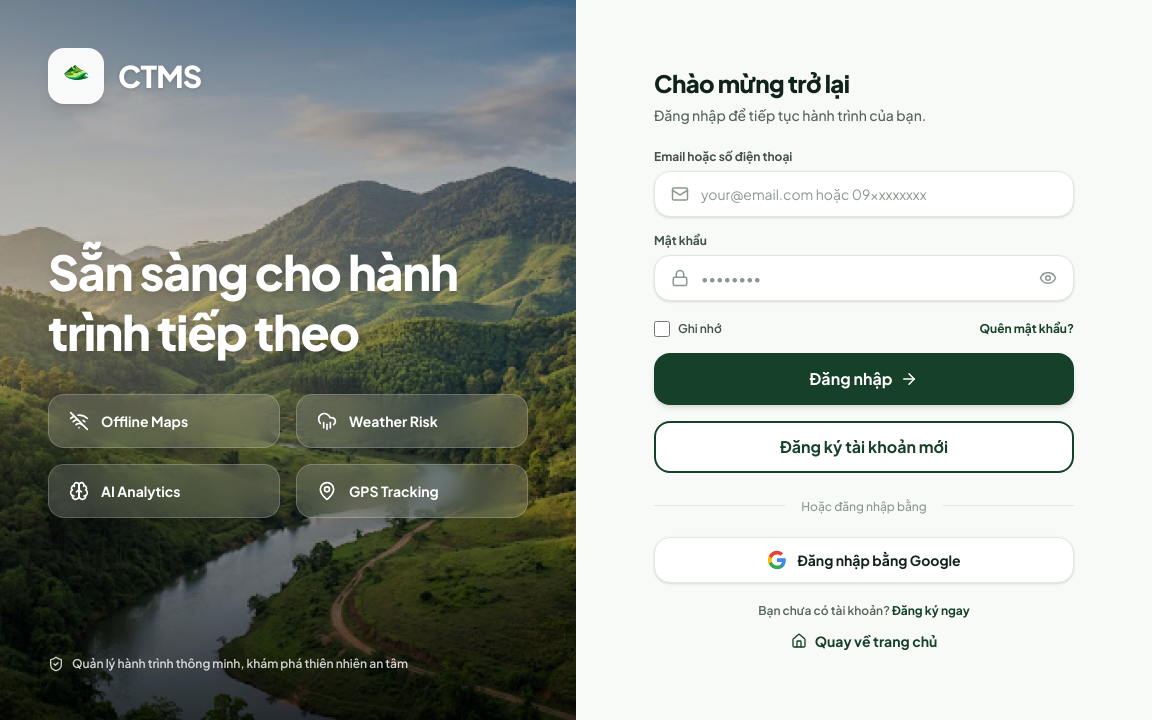
Test case: LoginPage › shows a Vietnamese error for invalid credentials and keeps the entered identifier
This screenshot has width=1152, height=720.
Step 1. Type "admin@ctms.local" into the field with placeholder "your@email.com hoặc 09xxxxxxxx" → (879,194), box [701, 184, 1057, 204]
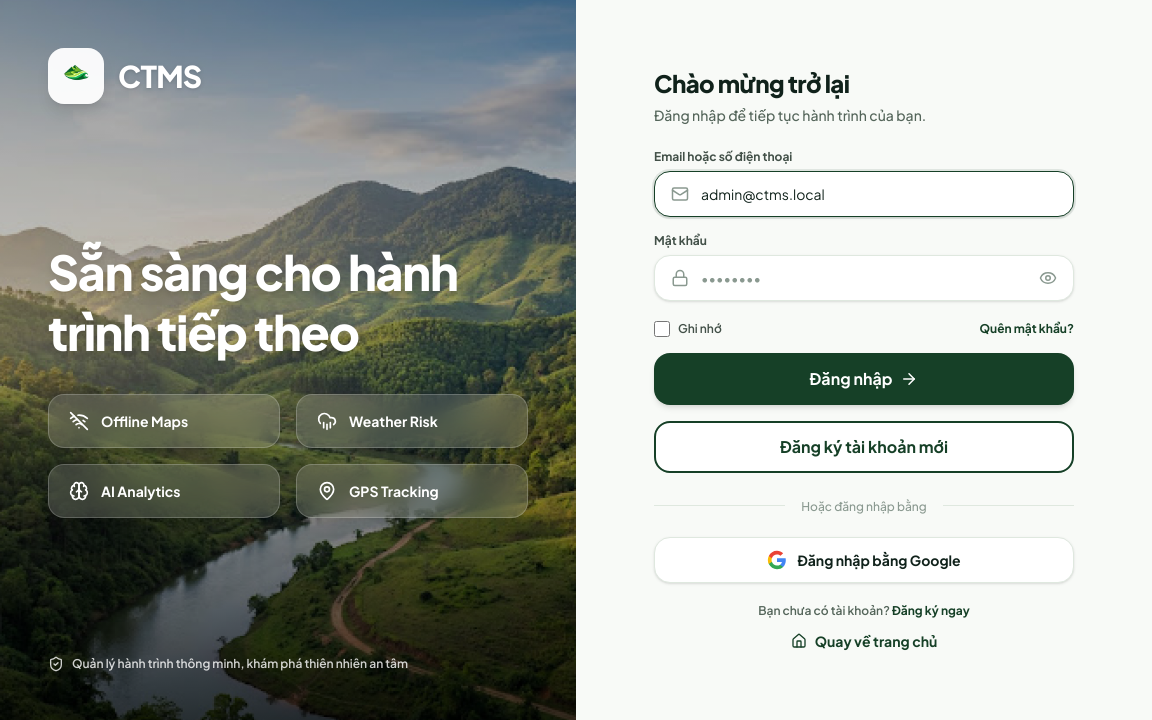
Step 2. Type "WrongPass1" into the password field with placeholder "••••••••" → (864,278), box [701, 268, 1027, 288]
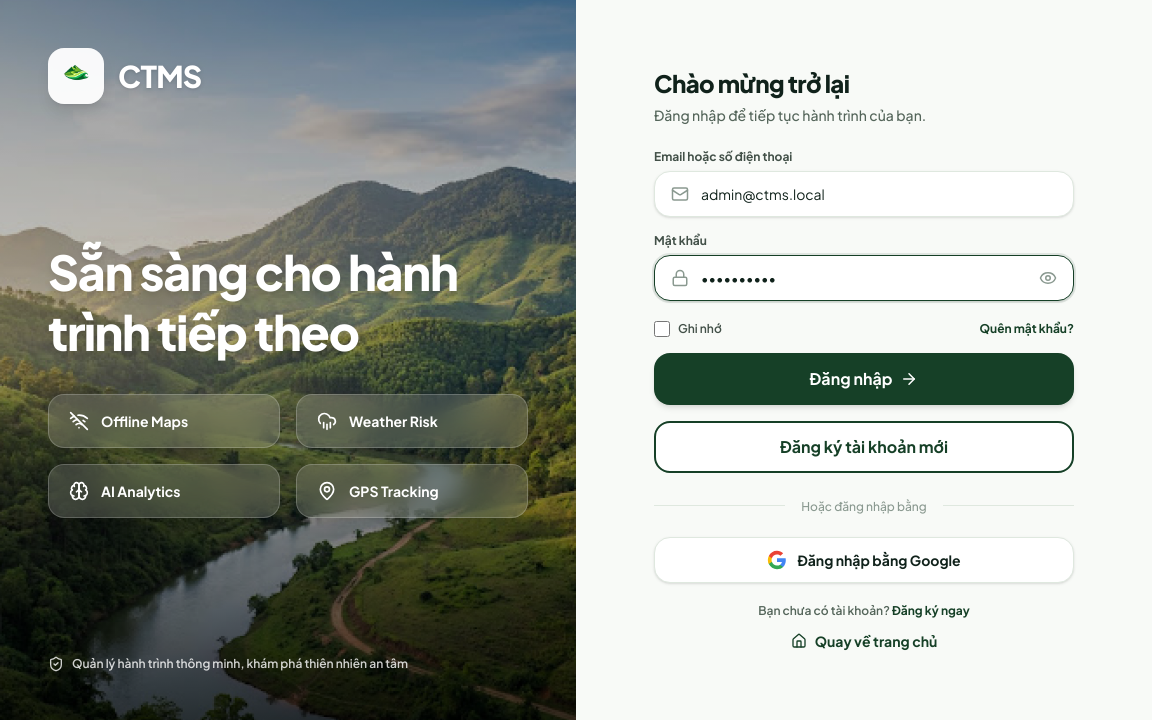
Step 3. Click the button "Đăng nhập" → (864,379), box [654, 353, 1074, 405]
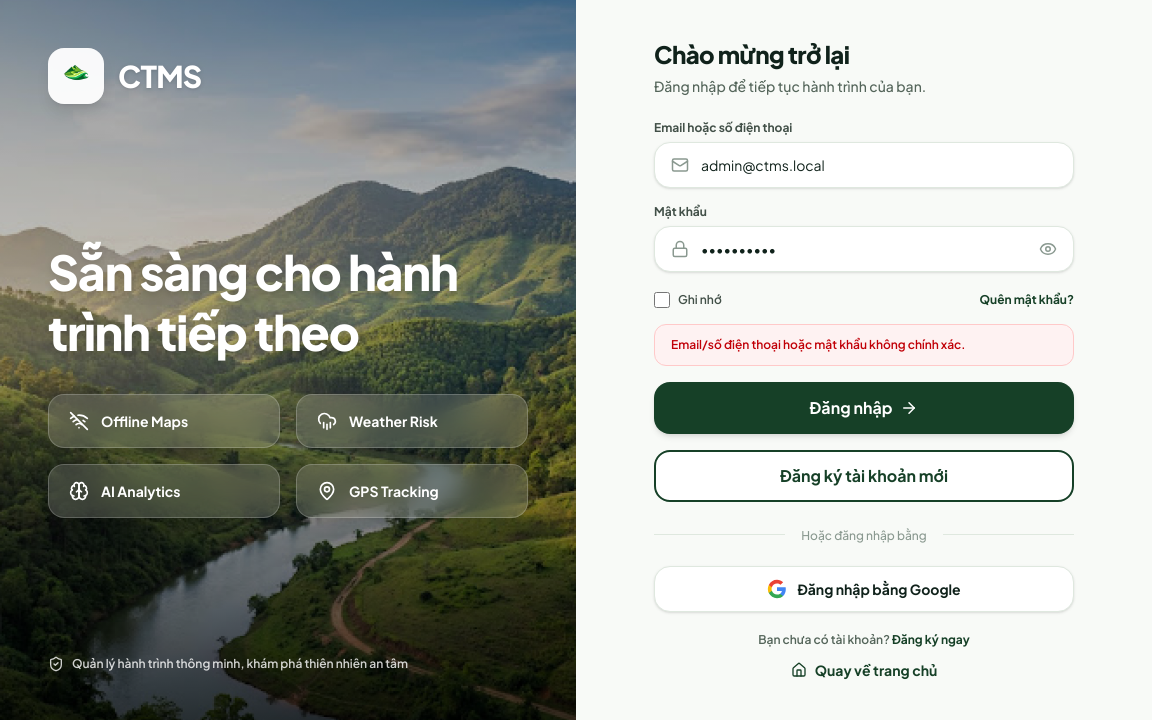
Expected: the text "Email/số điện thoại hoặc mật khẩu không chính xác." is shown, [671, 337, 966, 352]
